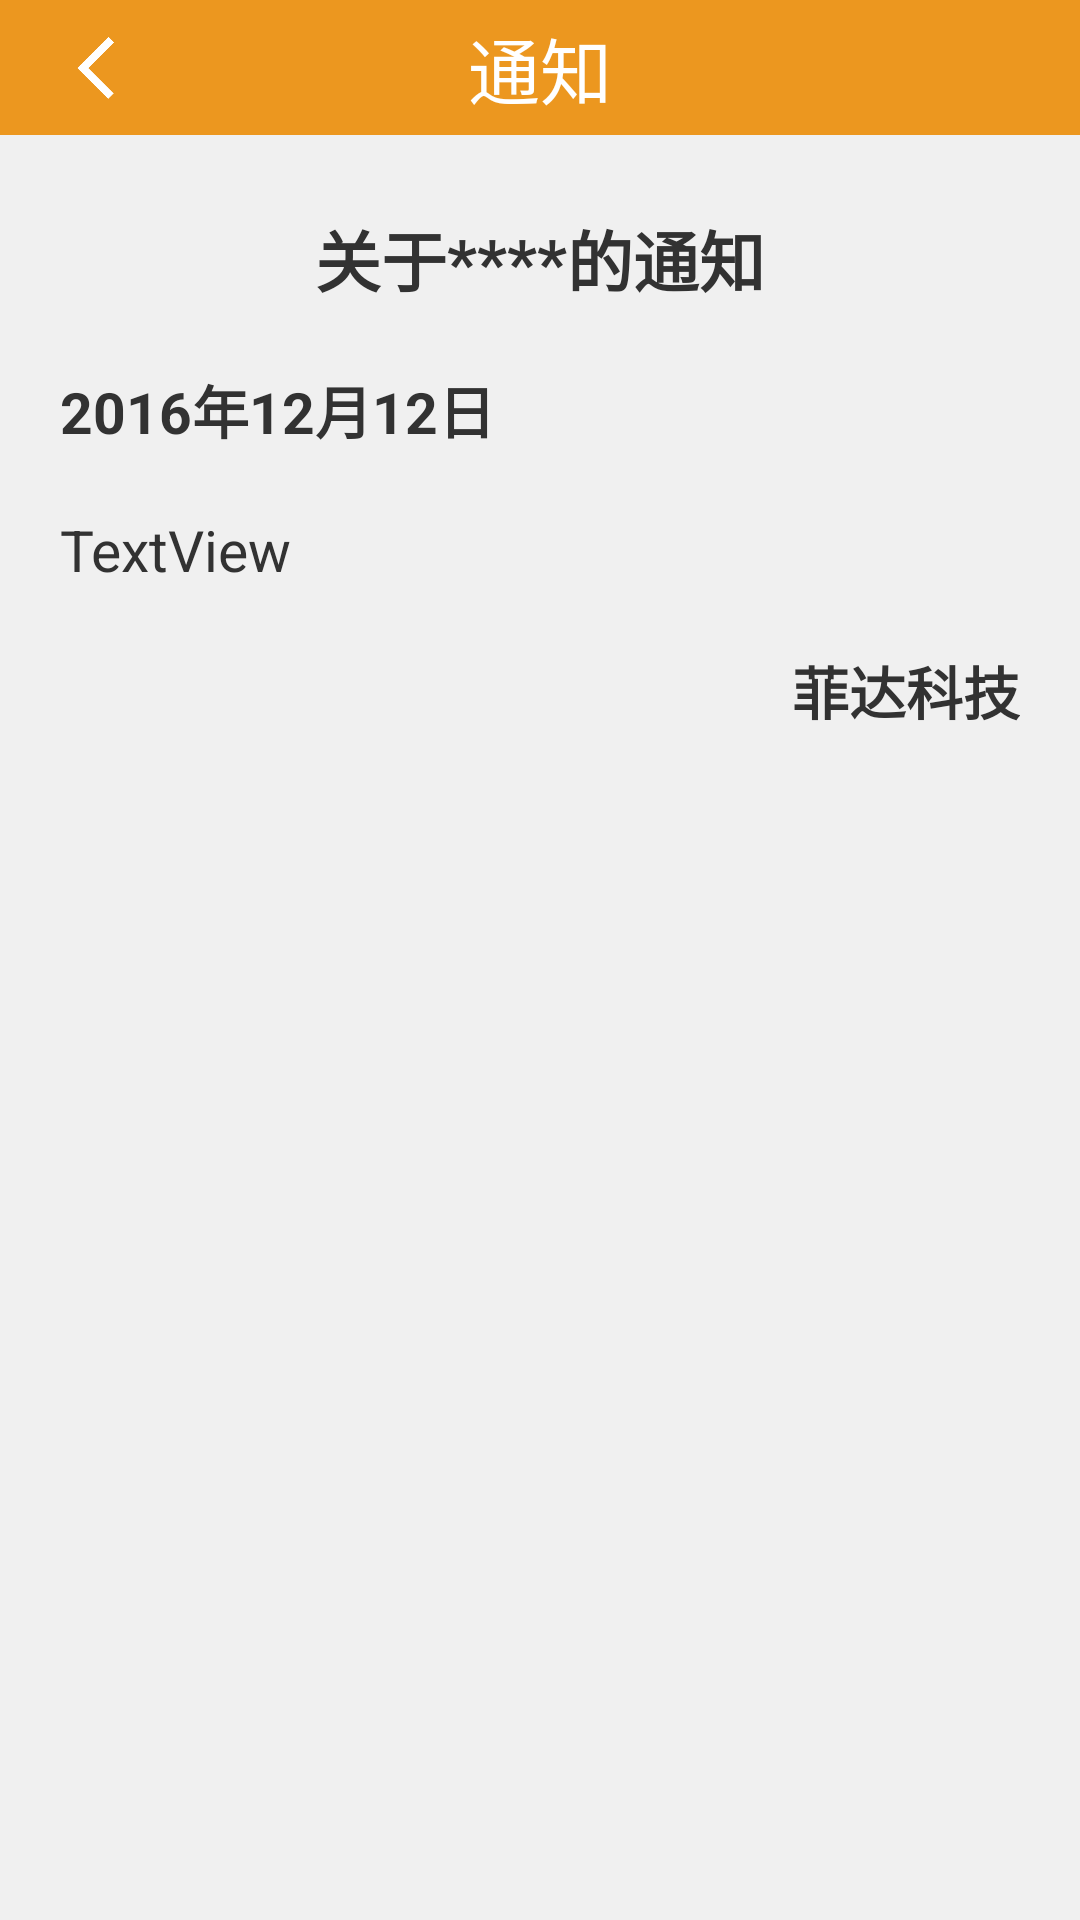

Named icons in this screenshot (1080px×1920px) and their centers, point (x, y):
back: point (96, 68)
